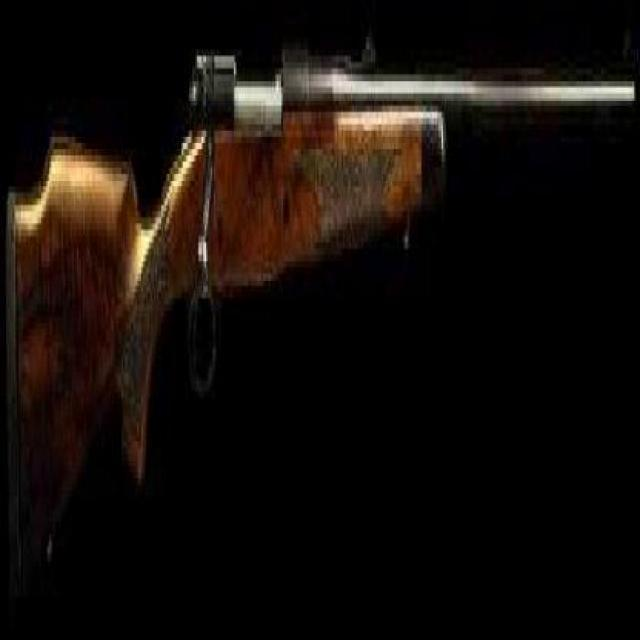weapon: (6, 34, 638, 586)
